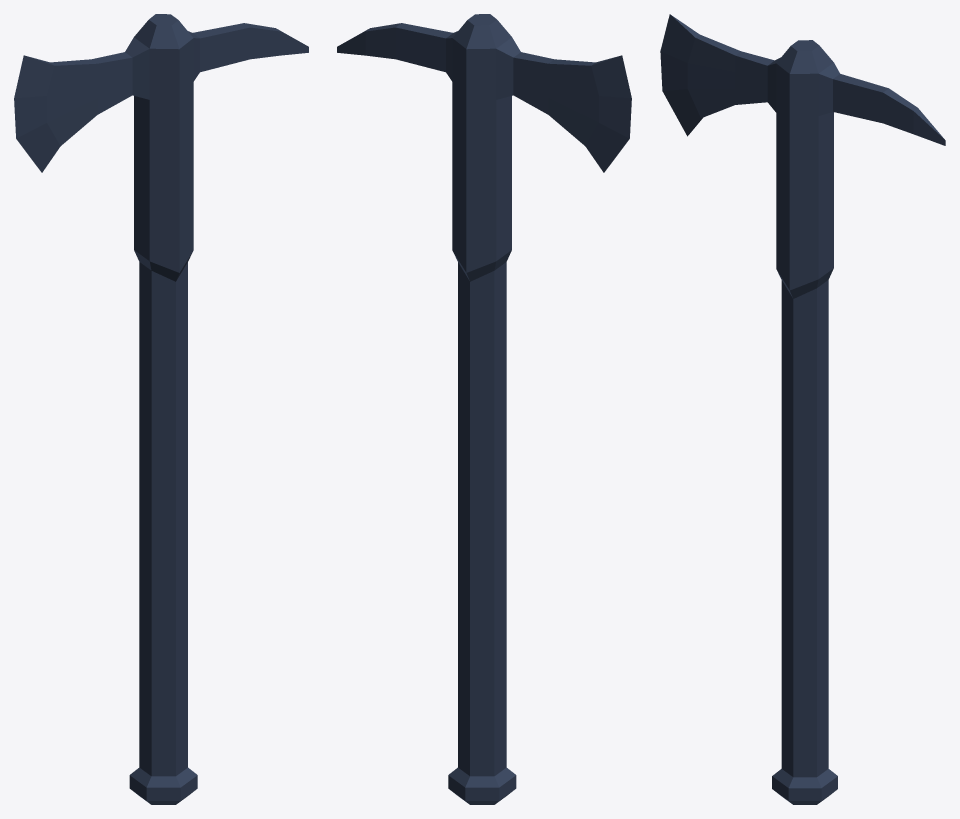
The model's file is BoardingAxe.obj.
3 renders of one model, left to right at view 1: azimuth 30°, elevation 25°; view 2: azimuth 150°, elevation 25°; view 3: azimuth 330°, elevation 25°, orthographic. The views are drawn at different scales.
Parts seen in each view (by area): view 1: BoardingAxe; view 2: BoardingAxe; view 3: BoardingAxe.
Part boxes in pixels (x1,y1,x2,y2): BoardingAxe: [14, 14, 308, 804]; BoardingAxe: [337, 14, 631, 804]; BoardingAxe: [660, 14, 945, 804].
Size of the model in its own units: 11.18 by 28.12 by 2.24.
